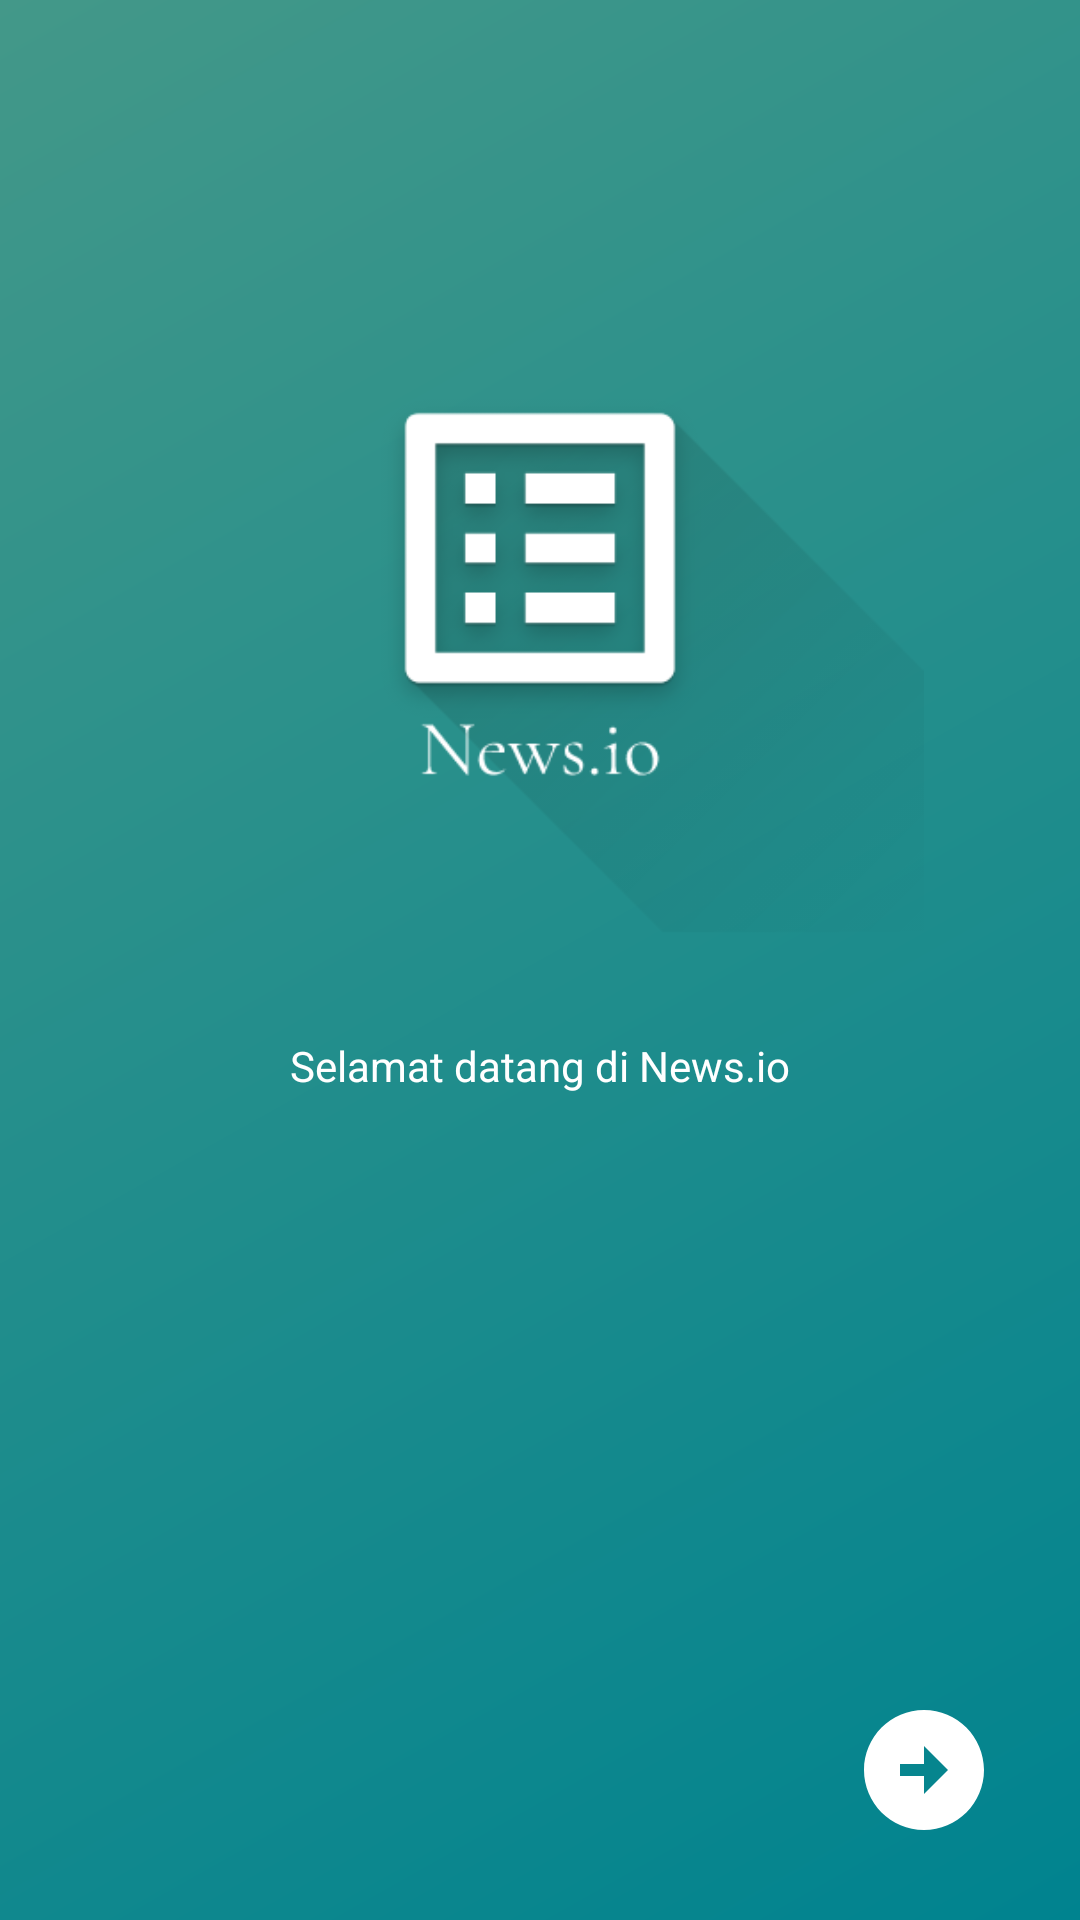

Icon click points for this 1080×1920 phone screenshot, format point (x, y):
arrow circle right: point (924, 1770)
